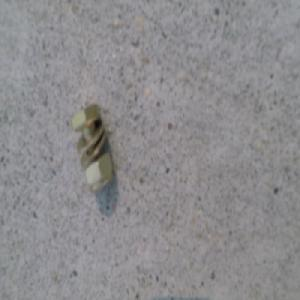BoltNutSet: (69, 101, 110, 189)
